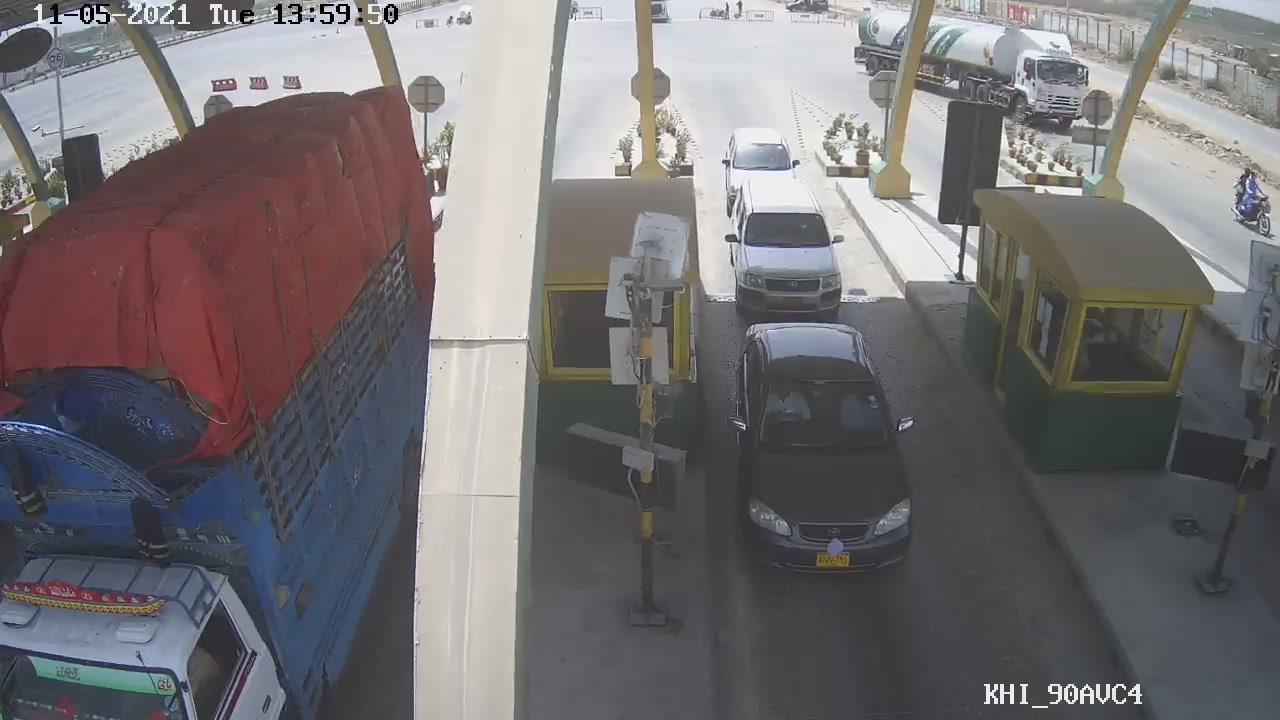F1: (729, 320, 923, 582), (717, 181, 863, 324)
